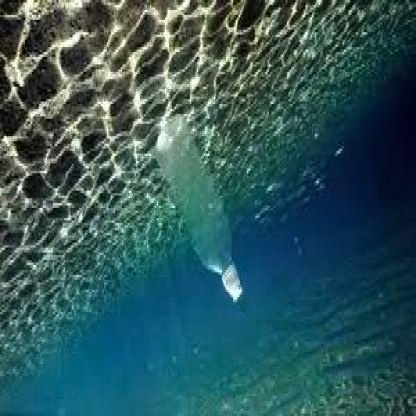pbottle: (140, 112, 248, 304)
